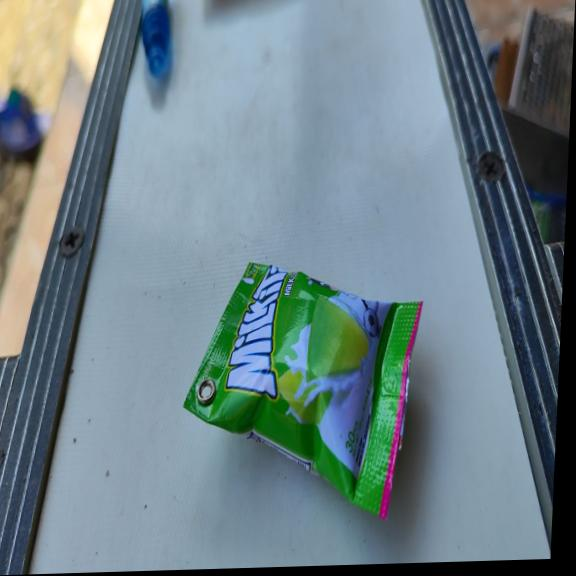Plastik: (175, 255, 425, 529)
